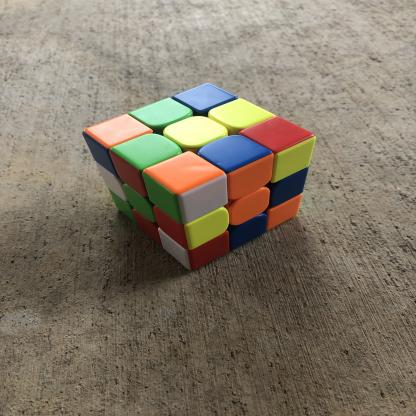UnsolvedCube: (62, 80, 343, 272)
